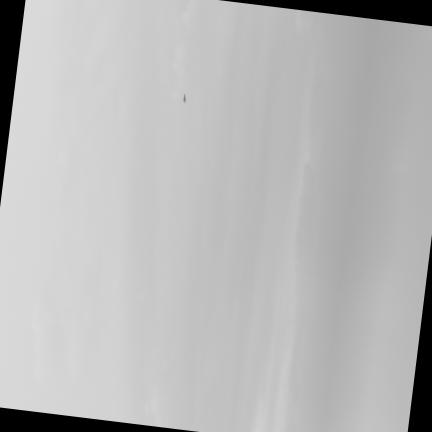Shahed: (183, 93, 185, 101)
